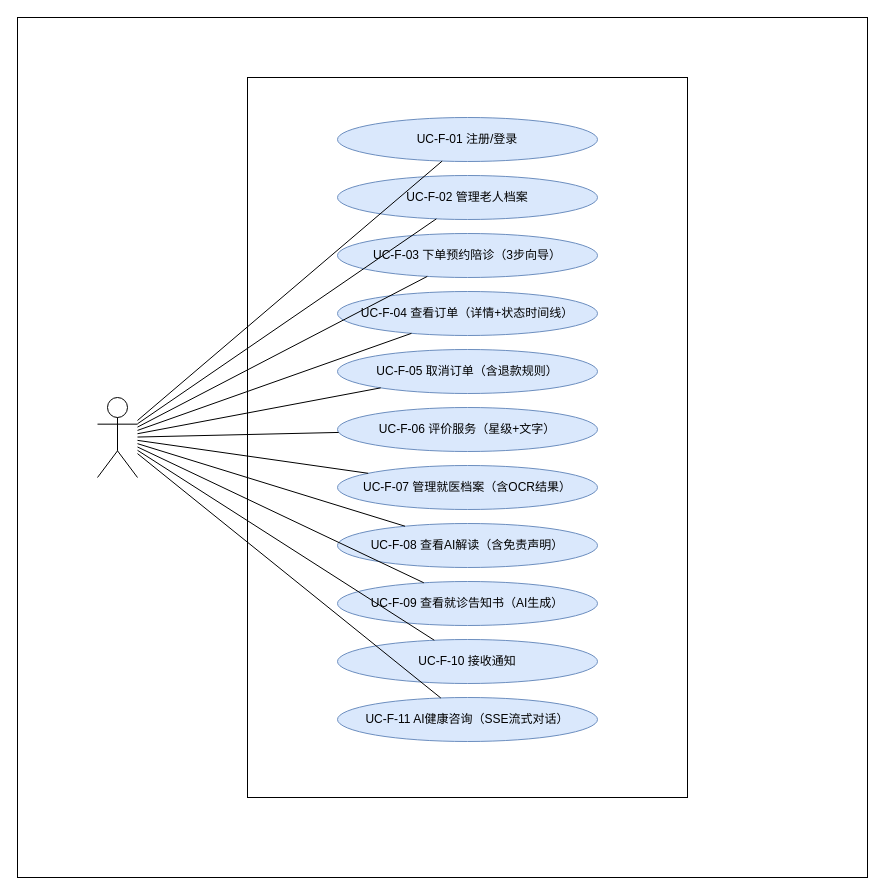
Image size: 885x895. Some labels were removed from this diagram. The shapes that lost their labels are listed below. From the top down, each one's box as (x1, y1, x2, y2) in pixels, then its label:
(96, 396, 138, 478): 家属
(246, 76, 688, 798): AI赋能陪诊助医服务系统（家属端）
